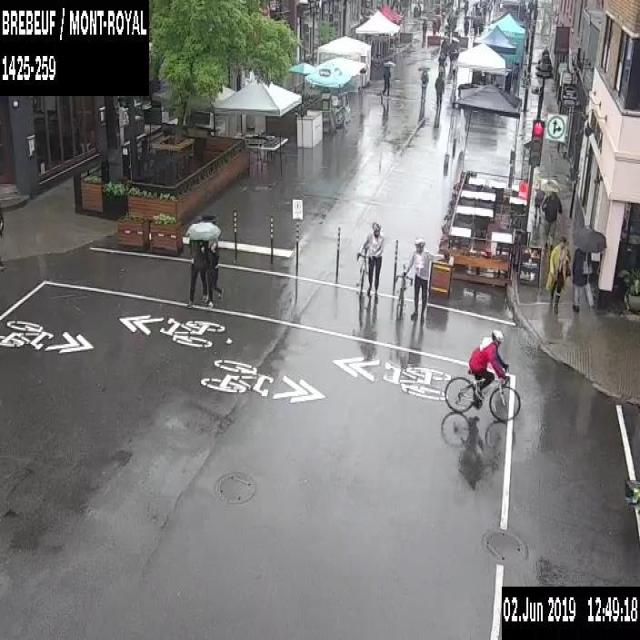construction: (390, 236, 398, 293)
cyclist: (445, 328, 520, 420)
pedestrian: (569, 227, 607, 309), (397, 237, 430, 322), (354, 222, 384, 302), (532, 175, 562, 254), (187, 217, 206, 309), (204, 220, 223, 304), (546, 241, 568, 312), (416, 61, 430, 100), (381, 59, 394, 93), (434, 70, 444, 108), (533, 187, 543, 224), (437, 48, 446, 86), (448, 52, 458, 86), (0, 208, 4, 268), (420, 16, 426, 41), (430, 18, 435, 35), (463, 18, 468, 34)
